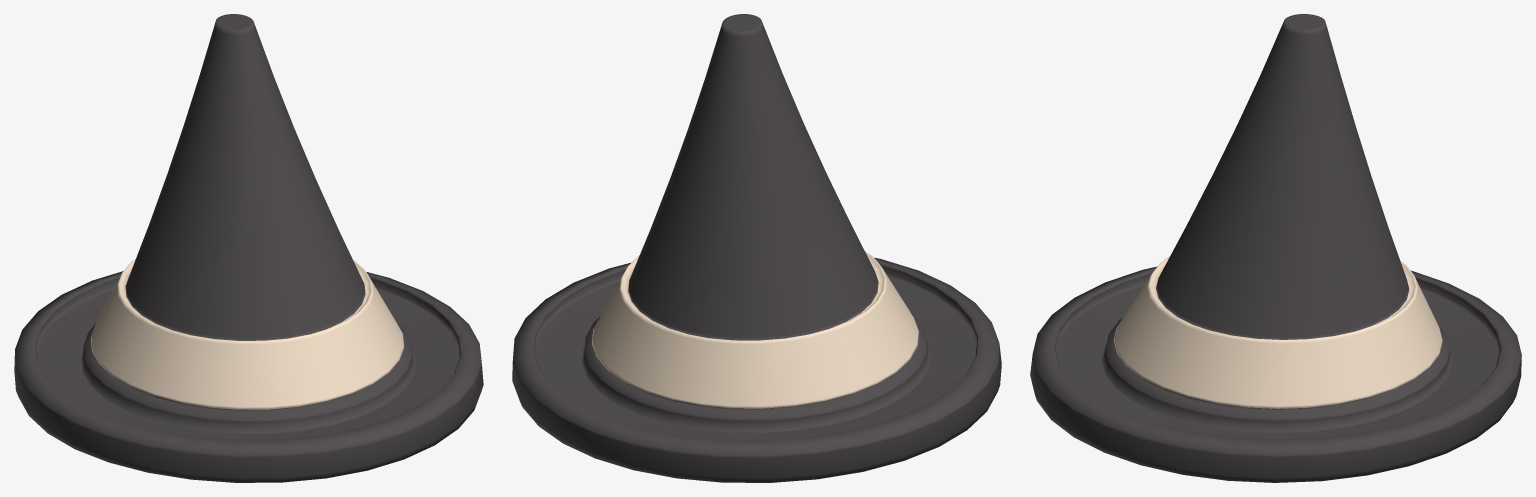
Rendered from magical_hat.fbx.
The picture shows the model from 3 angles, left to right: view 1: azimuth 30°, elevation 25°; view 2: azimuth 150°, elevation 25°; view 3: azimuth 270°, elevation 25°; orthographic projection. The views are drawn at different scales.
Parts seen in each view (by area): view 1: Magic_hat; view 2: Magic_hat; view 3: Magic_hat.
Boxes of the visible parts, x1,y1,x2,y2 form: Magic_hat: (14, 14, 483, 482); Magic_hat: (512, 14, 1001, 482); Magic_hat: (1030, 14, 1521, 482).
Size of the model in its own units: 184 by 154 by 188.
